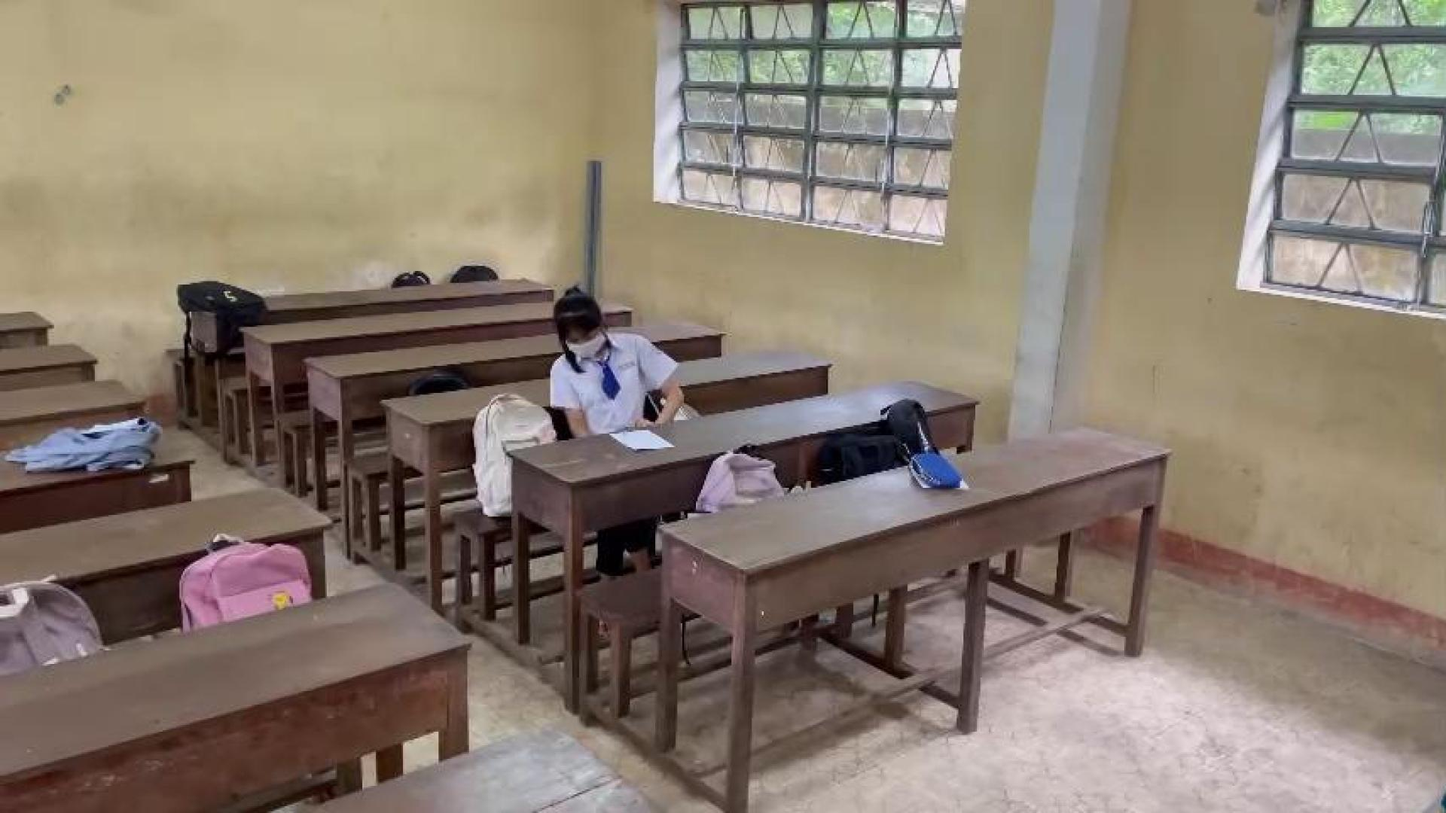Bend Over The Desk: (538, 274, 616, 375)
Hand Under Table: (542, 361, 603, 445)
